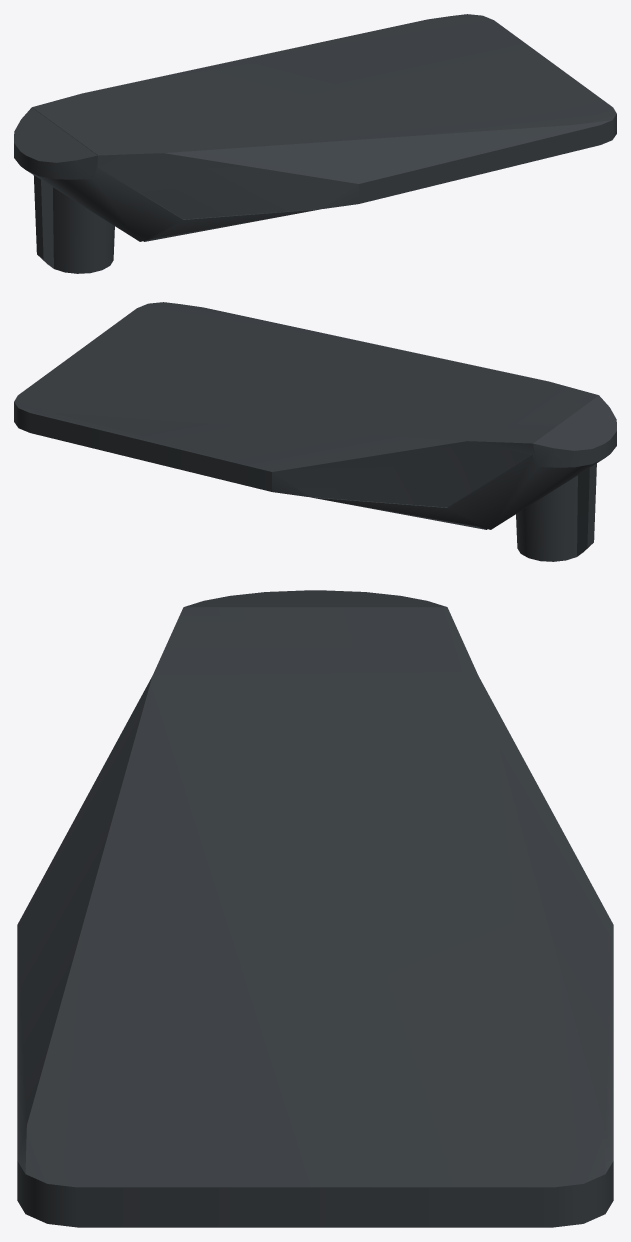
Rendered from Alfons_II.glb.
3 renders of one model, top to bottom at view 1: azimuth 30°, elevation 25°; view 2: azimuth 150°, elevation 25°; view 3: azimuth 270°, elevation 25°, orthographic. The views are drawn at different scales.
Parts seen in each view (by area): view 1: Cube.001, Cylinder; view 2: Cube.001, Cylinder; view 3: Cube.001.
Part boxes in pixels (<box>): Cube.001: <box>14,14,616,241</box>; Cylinder: <box>33,175,114,273</box>; Cube.001: <box>14,302,616,529</box>; Cylinder: <box>516,463,596,561</box>; Cube.001: <box>17,590,613,1227</box>.
Bounding box in the file's own units: 0.7377 × 0.175 × 0.359.
Materials: 2 (2 with a texture image).
